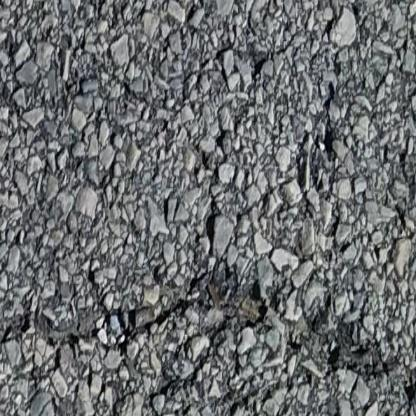Cracks: (0, 275, 268, 416), (279, 312, 416, 416)
